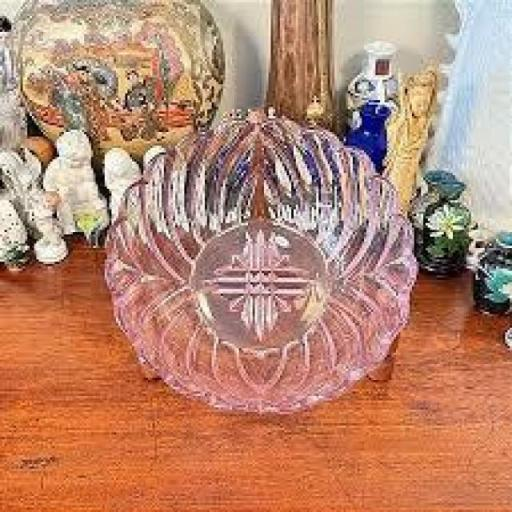glass: (91, 104, 430, 425)
